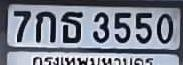0: (156, 13, 172, 43)
3: (92, 11, 108, 42)
5: (135, 12, 151, 43), (114, 12, 130, 42)
7: (13, 10, 30, 41)
A01: (35, 10, 55, 42)
A24: (60, 11, 82, 42)
